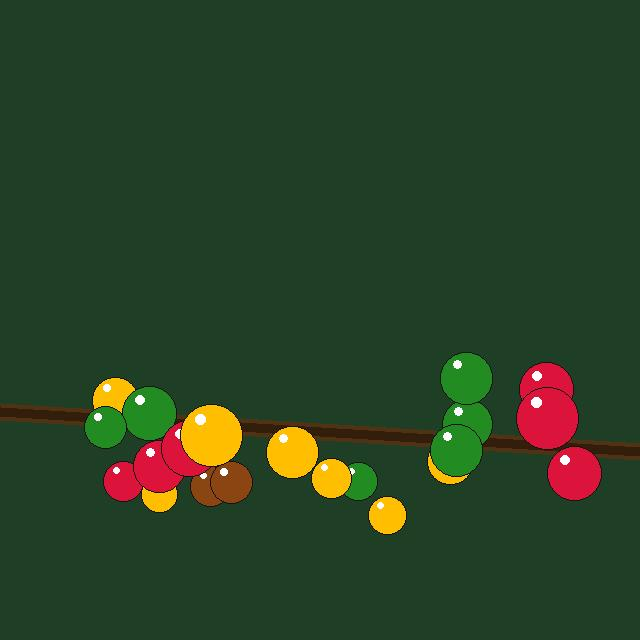Overripe: (210, 461, 252, 503), (190, 466, 230, 506)
Ripe: (516, 387, 578, 449), (161, 420, 217, 476), (519, 362, 573, 416), (547, 446, 601, 500), (133, 440, 185, 492), (103, 461, 143, 501)
Ripening: (180, 404, 242, 466), (266, 426, 318, 478), (92, 377, 138, 423), (427, 438, 473, 484), (311, 458, 351, 498), (368, 496, 406, 534), (141, 476, 177, 512)
Unripe: (122, 386, 176, 440), (430, 424, 482, 476), (440, 352, 492, 404), (442, 399, 492, 449), (84, 406, 126, 448), (339, 462, 377, 500)
